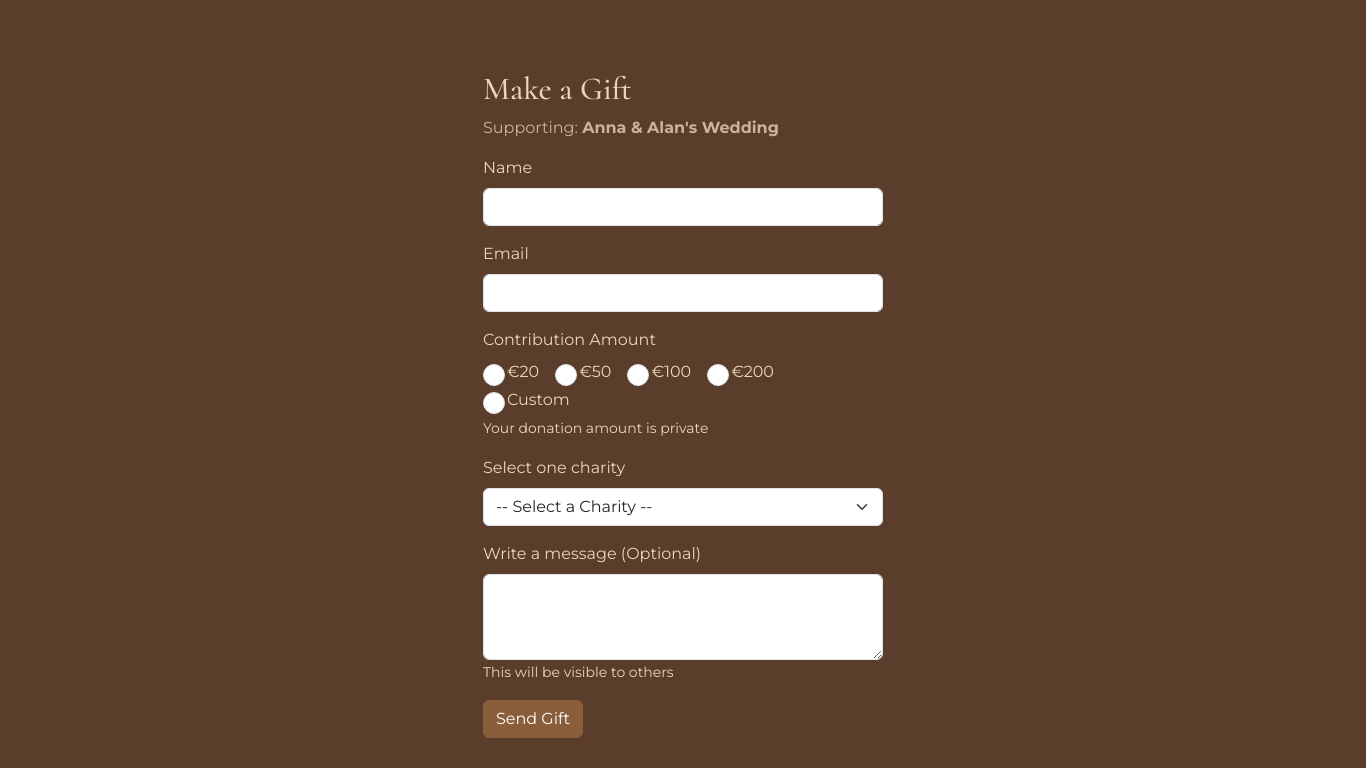
Test: DonationForm (v2: Stripe Checkout) › shows a validation error when the amount is missing
The image size is (1366, 768).
Type "John Doe" into the field labelled "Name" at (683, 207), box [483,188,883,226]
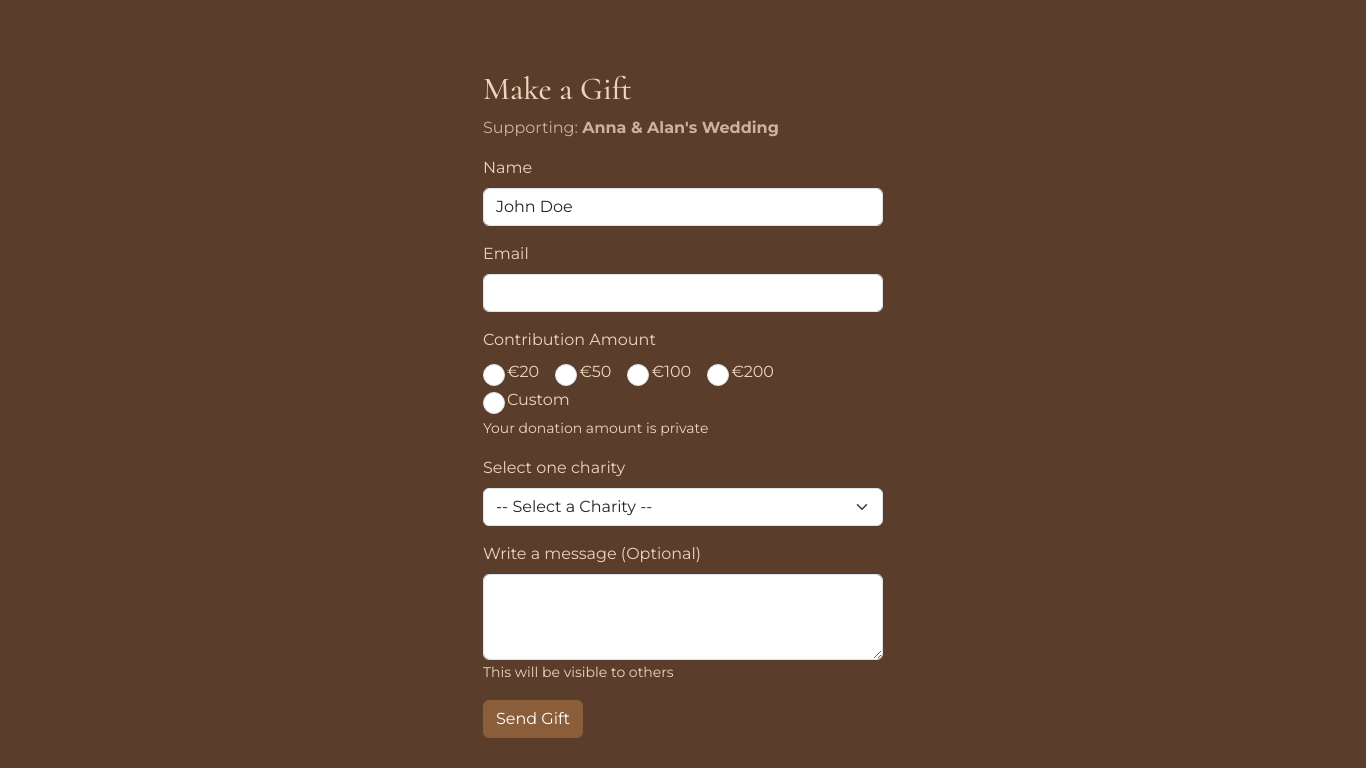
Type "john@example.com" into the field labelled "Email" at (683, 293), box [483,274,883,312]
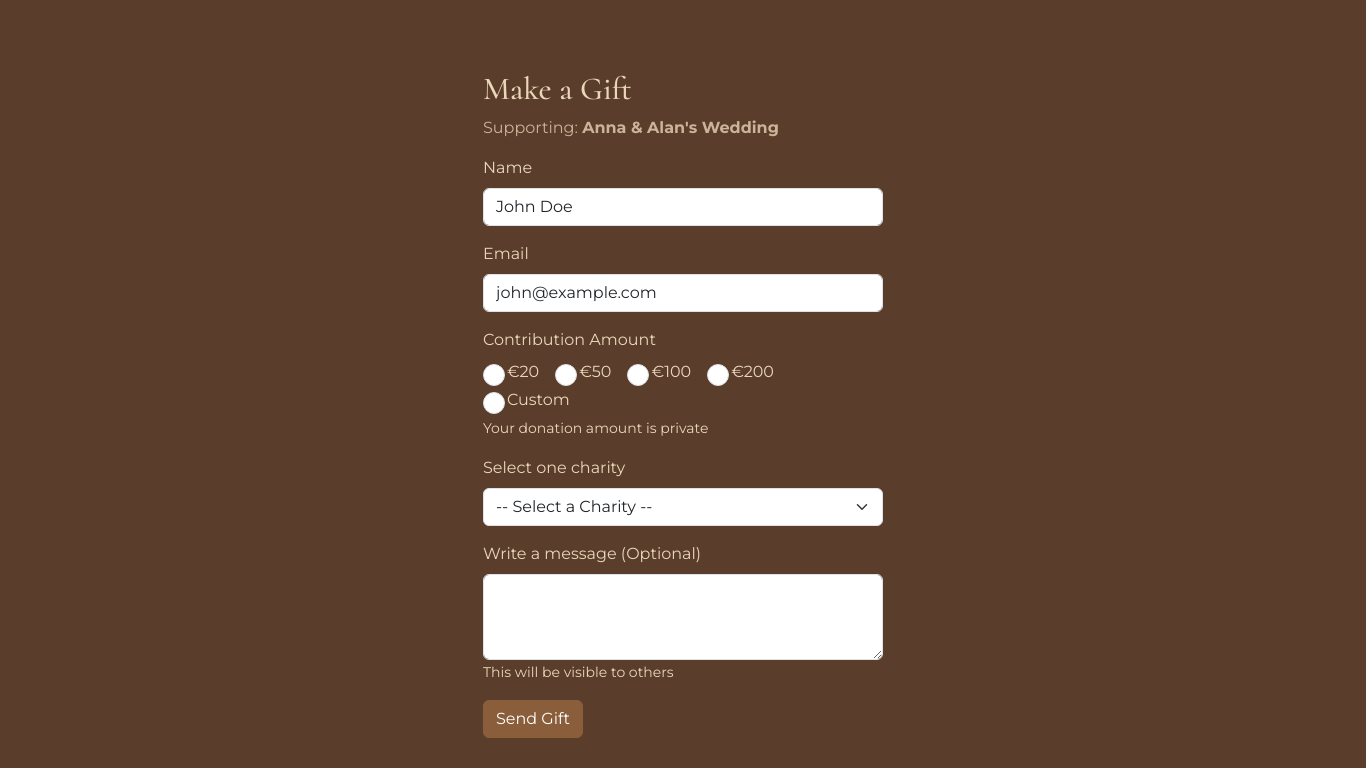
Click the button "Send Gift" at (533, 719), box [483,700,583,738]
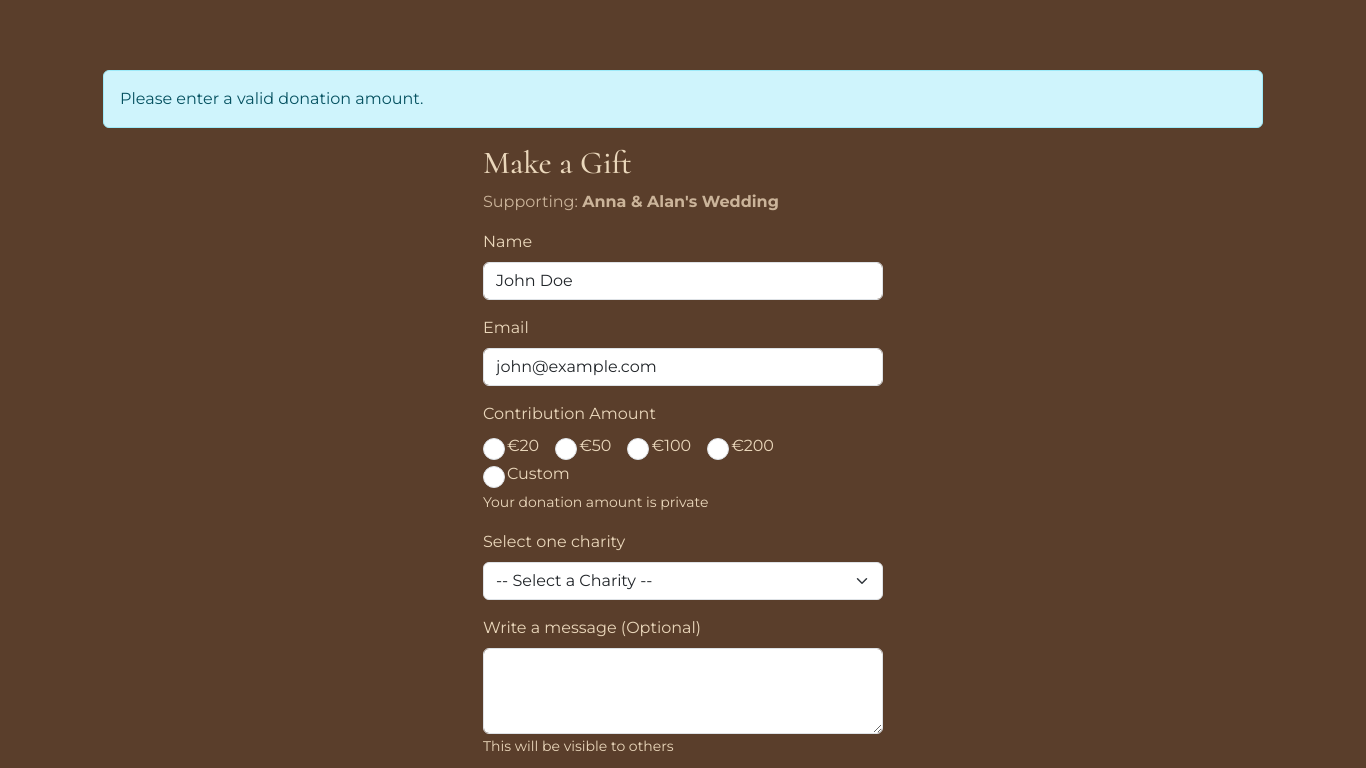
Expected: the message shows "Please enter a valid donation amount", [120,89,423,108]
